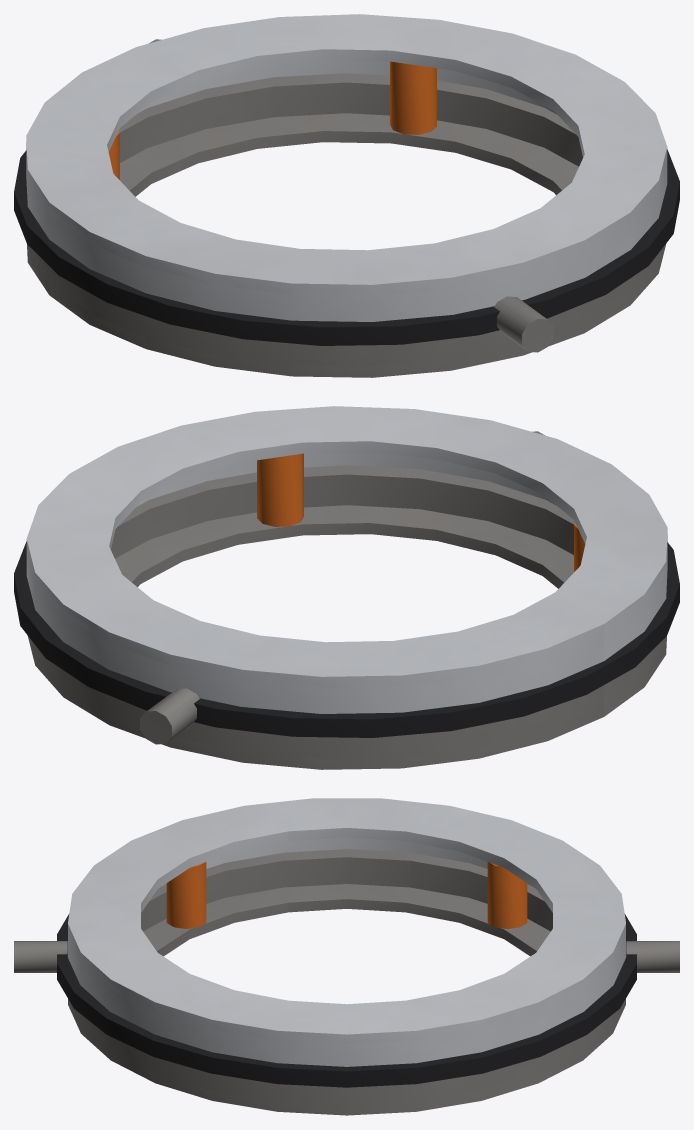
Rendered from stage14_clamp_band_separator_xs.glb.
The picture shows the model from 3 angles, top to bottom: view 1: azimuth 30°, elevation 25°; view 2: azimuth 150°, elevation 25°; view 3: azimuth 270°, elevation 25°; orthographic projection. The views are drawn at different scales.
Visible parts, largest first — view 1: half_b_ring, lower_ring, clamp_band, springs, band_bolts; view 2: half_b_ring, lower_ring, clamp_band, springs, band_bolts; view 3: half_b_ring, lower_ring, clamp_band, springs, band_bolts.
Part boxes in pixels (box(x1,y1,x2,y2)): half_b_ring: box(26, 14, 667, 321); lower_ring: box(27, 73, 665, 377); clamp_band: box(14, 149, 679, 345); springs: box(108, 61, 436, 179); band_bolts: box(149, 39, 553, 352); half_b_ring: box(26, 406, 667, 713); lower_ring: box(28, 465, 666, 769); clamp_band: box(14, 541, 679, 737); springs: box(257, 453, 585, 571); band_bolts: box(140, 431, 544, 744); half_b_ring: box(68, 798, 625, 1066); lower_ring: box(68, 849, 625, 1115); clamp_band: box(57, 914, 636, 1087); springs: box(166, 862, 527, 928); band_bolts: box(14, 941, 679, 972).
Size of the model in its own units: 0.649 by 0.1 by 0.745.
4 materials, 2 textured.
